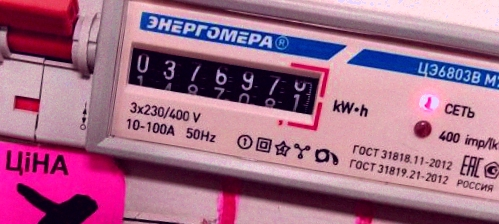0: (133, 50, 150, 74)
1: (287, 91, 302, 112)
3: (160, 57, 178, 81)
6: (211, 61, 230, 86)
7: (185, 58, 203, 83), (264, 72, 282, 97)
9: (237, 67, 255, 92)
screen: (112, 31, 332, 135)
